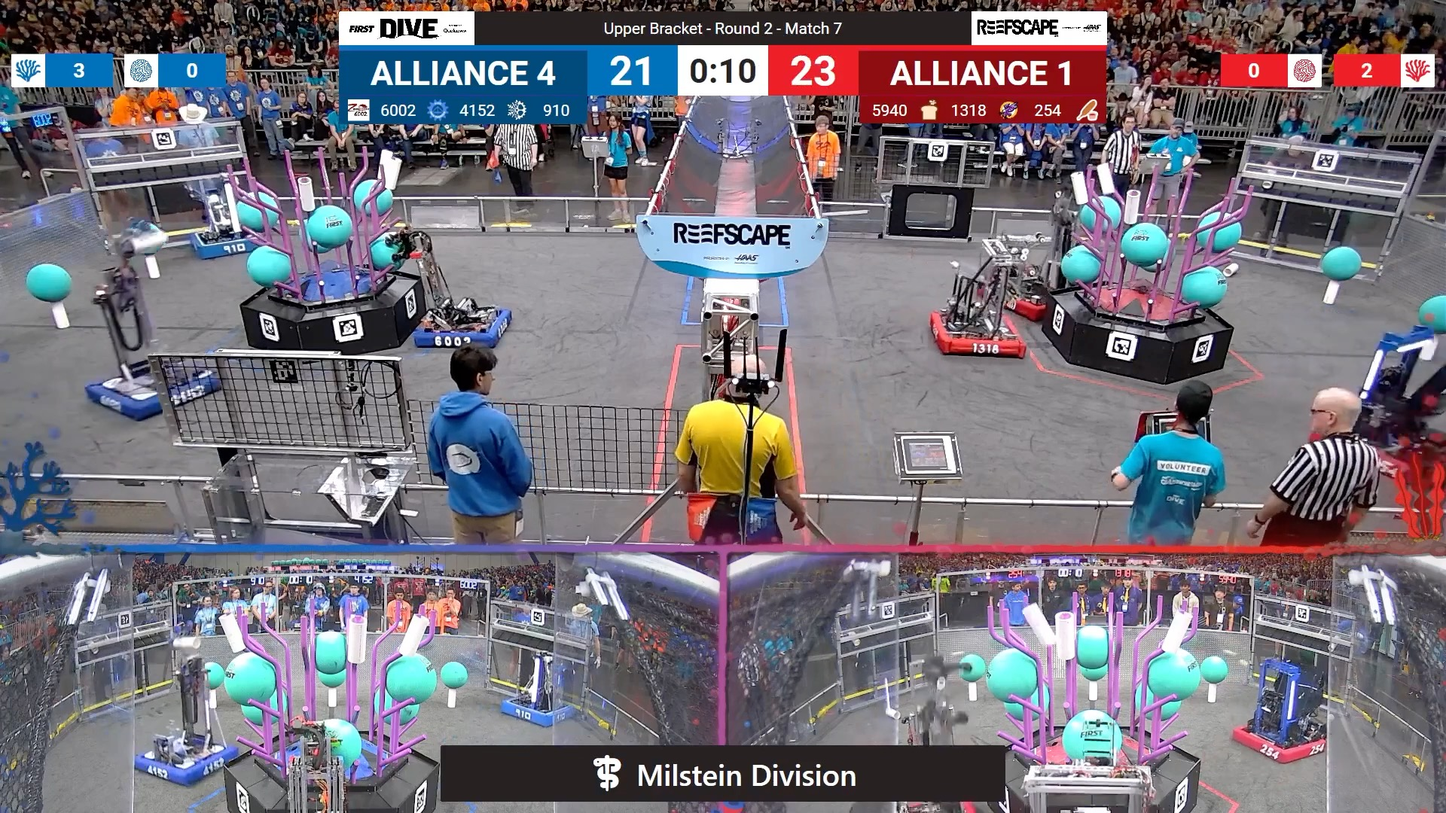bumpers: (1307, 411, 1446, 491), (82, 363, 228, 422), (404, 293, 513, 351), (926, 307, 1032, 366), (133, 736, 244, 789), (1225, 723, 1333, 768), (183, 225, 270, 263), (497, 696, 579, 731)
